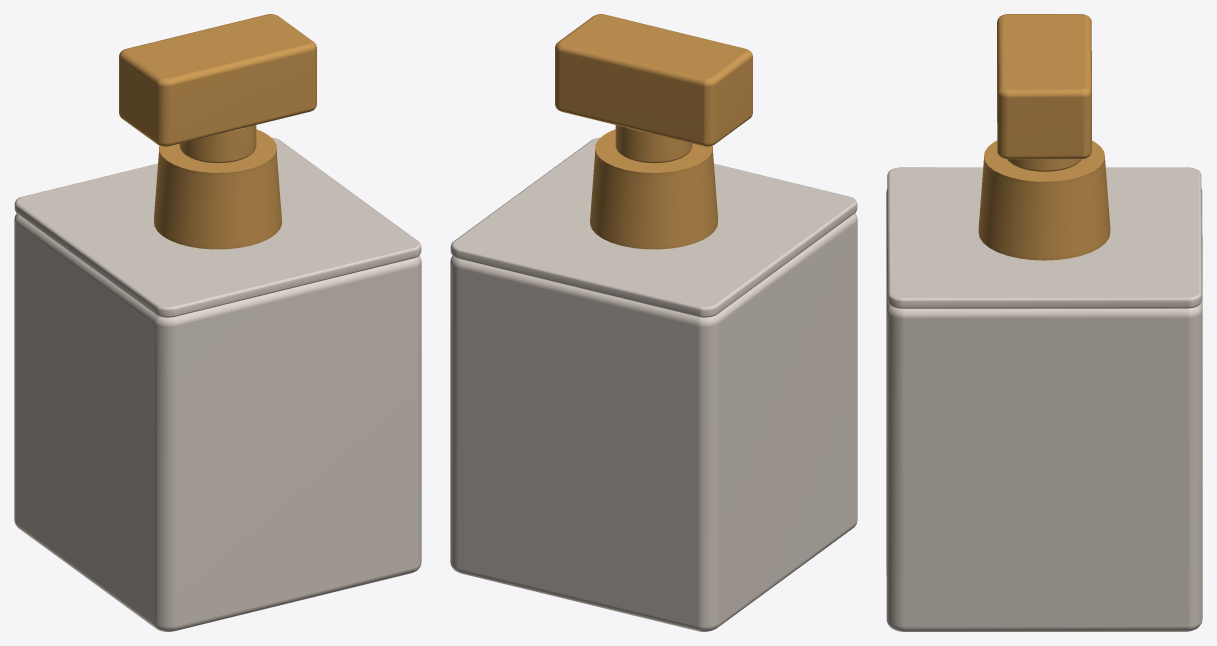
File: perfume_bottle_realistic.glb
The picture shows the model from 3 angles, left to right: view 1: azimuth 30°, elevation 25°; view 2: azimuth 150°, elevation 25°; view 3: azimuth 270°, elevation 25°; orthographic projection. The views are drawn at different scales.
Visible parts, largest first — view 1: PerfumeBottle; view 2: PerfumeBottle; view 3: PerfumeBottle.
Boxes of the visible parts, bbox=[...] form: PerfumeBottle: bbox=[14, 14, 421, 631]; PerfumeBottle: bbox=[450, 14, 857, 631]; PerfumeBottle: bbox=[886, 14, 1202, 631].
Bounding box in the file's own units: 0.06 × 0.108 × 0.06.
